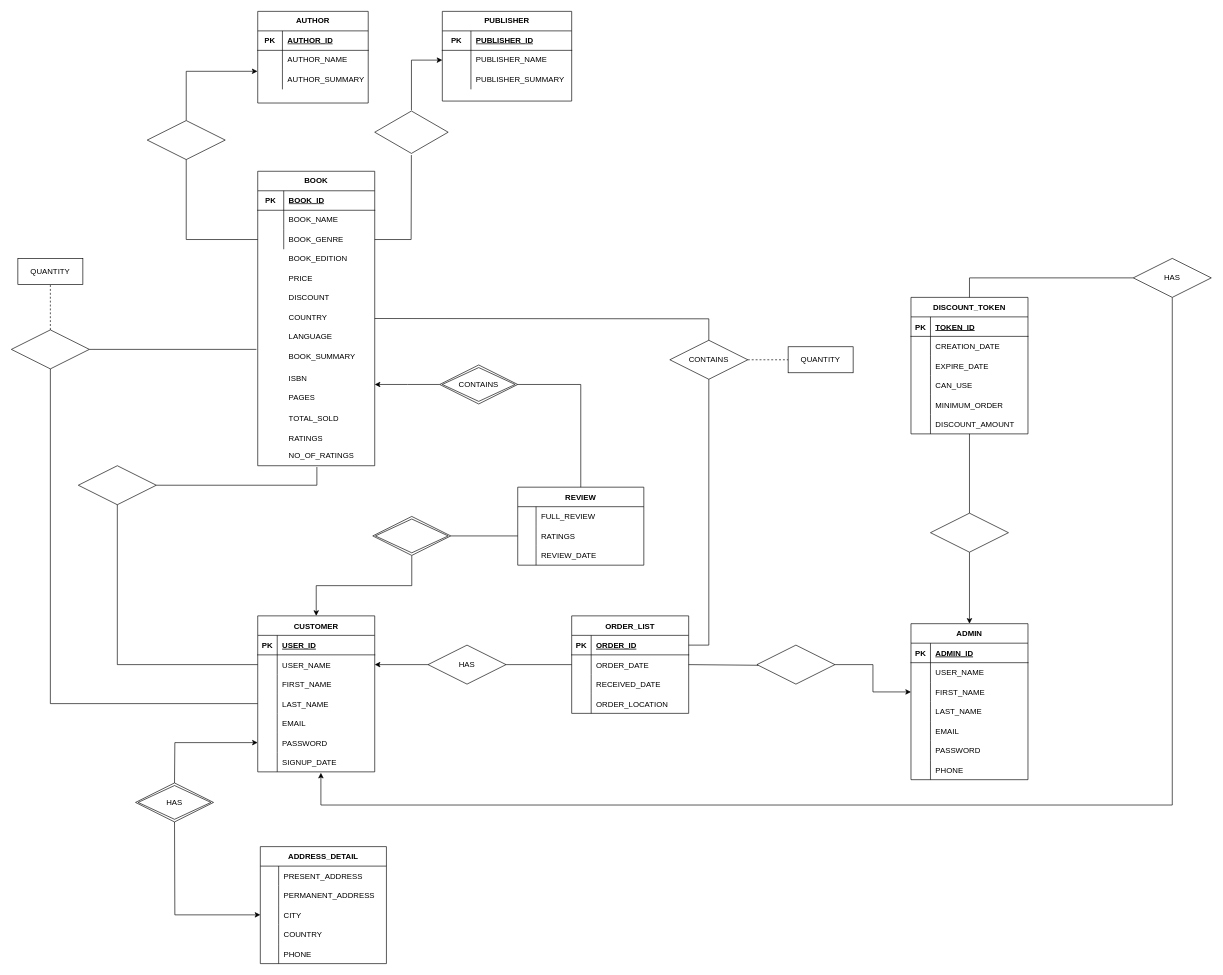
Image size: 1223x975. Some labels were removed from this diagram. Each missing label, with the centre of its shape:
CAN GIVE: the point at 969,532
CART: the point at 50,349
GIVES: the point at 411,535
PROCESS: the point at 795,664
PUBLISHES: the point at 411,132
WISHLIST: the point at 117,485
WRITES: the point at 186,140
